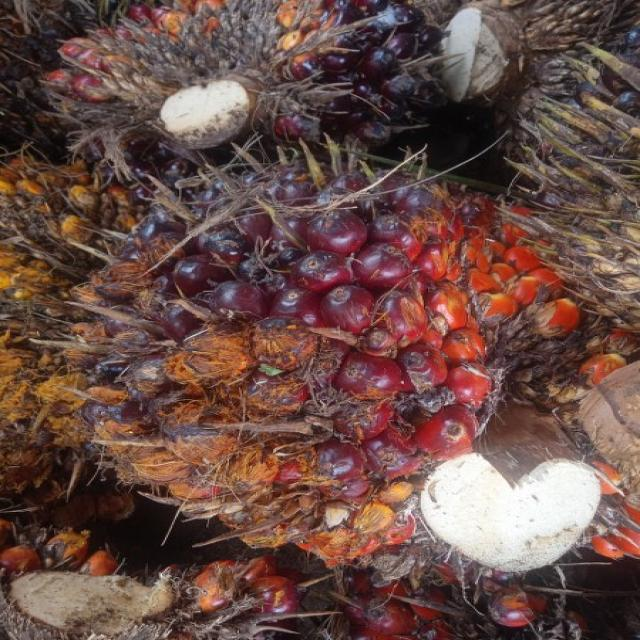fraksi 1: (53, 61, 603, 561)
